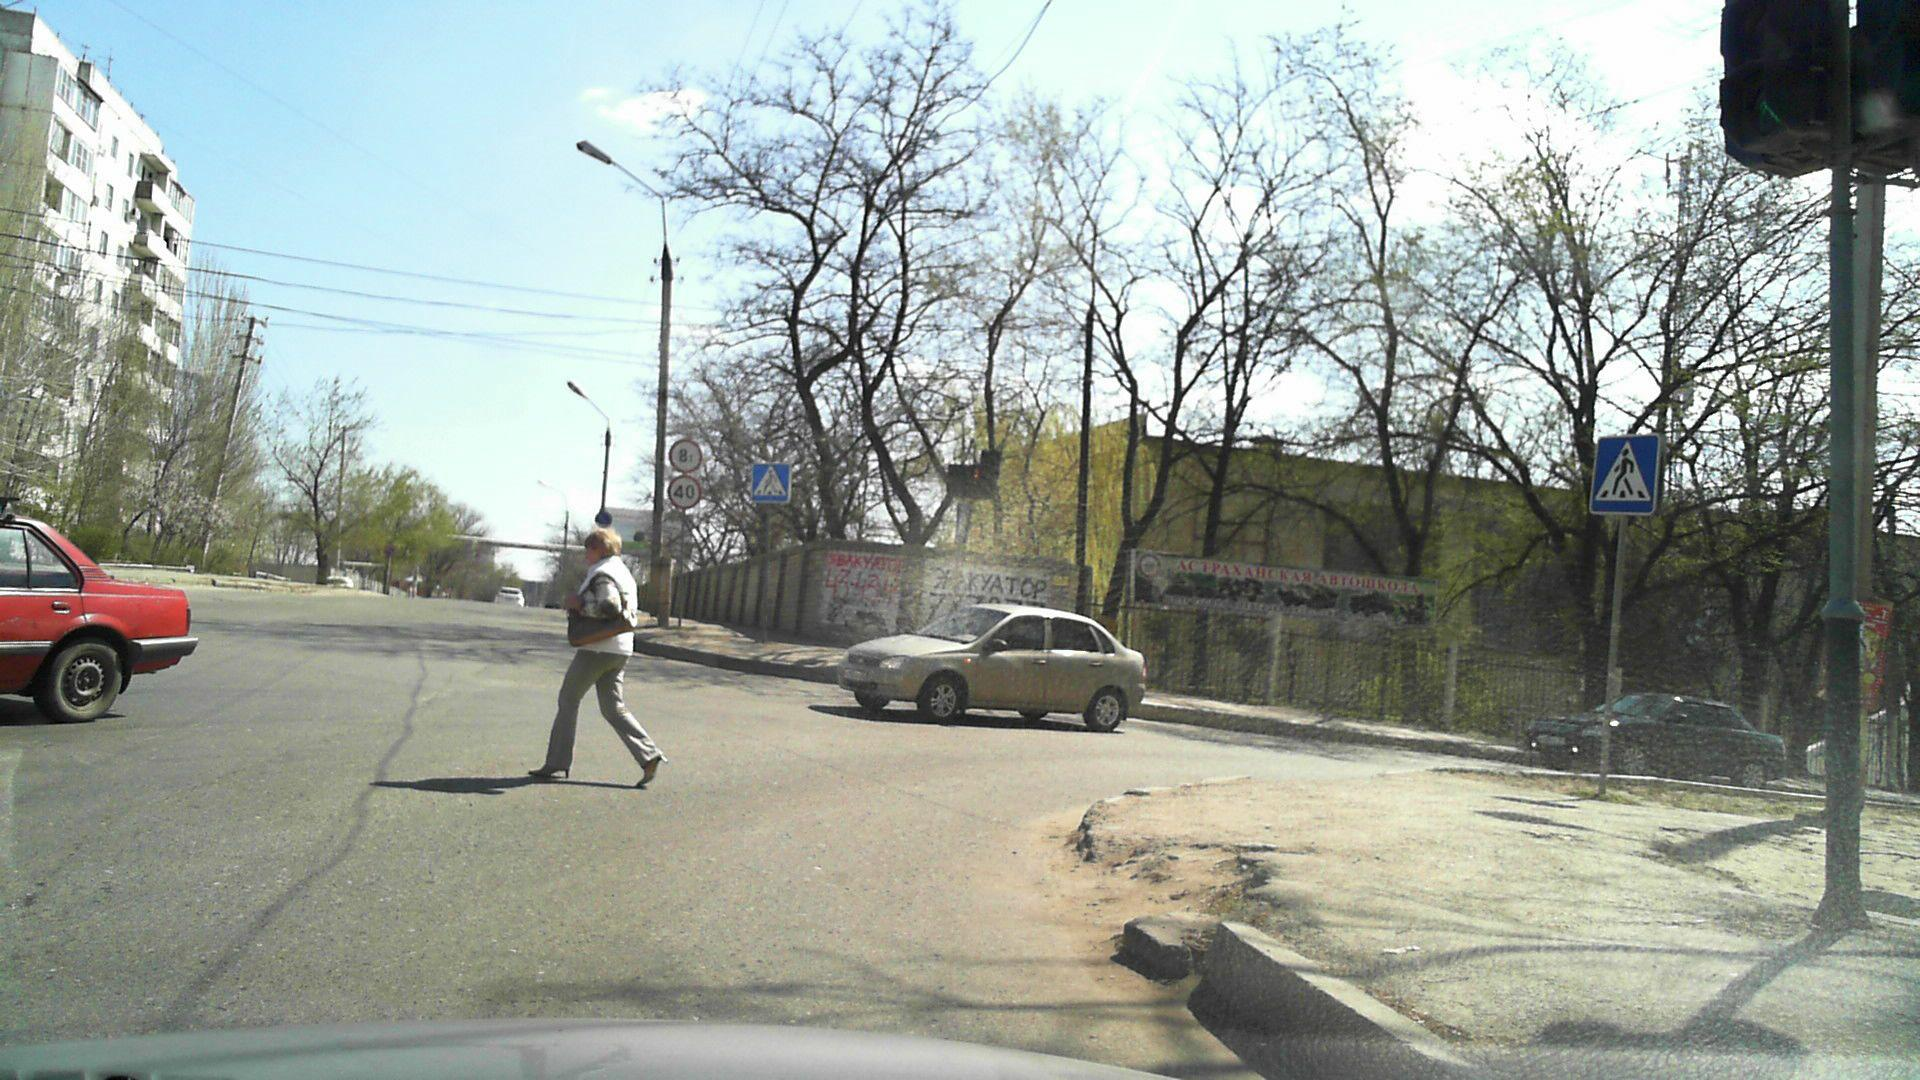3_11: (667, 436, 704, 473)
3_24: (669, 476, 702, 509)
3_28: (592, 510, 616, 529), (382, 543, 396, 558)
5_19_1: (1588, 435, 1660, 512)
5_19_2: (749, 462, 791, 505)
